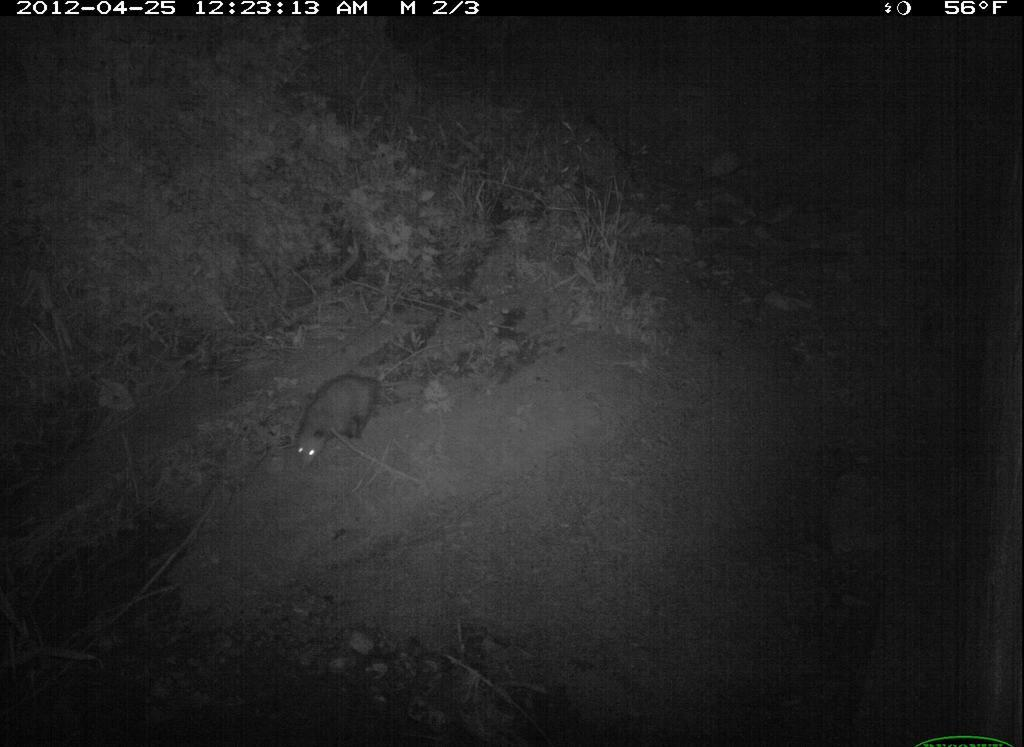opossum: (283, 374, 425, 472)
